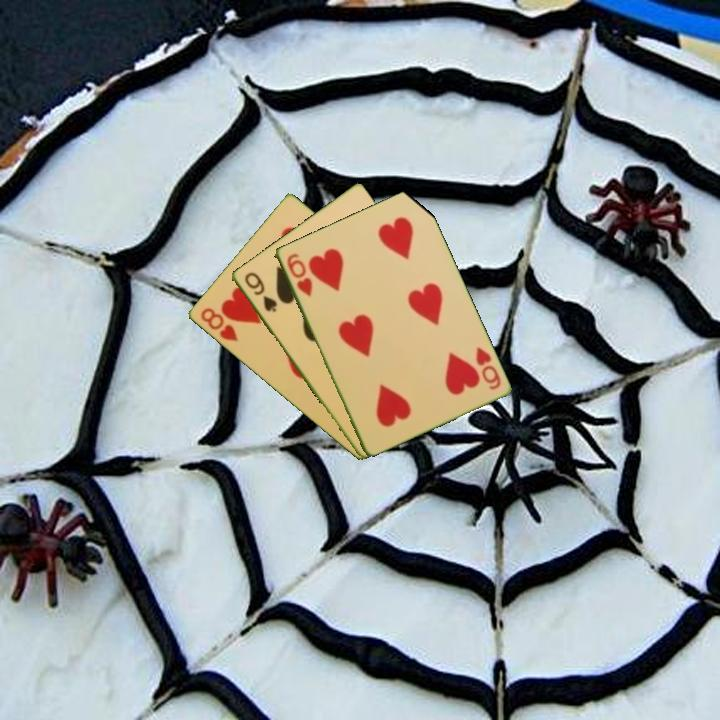6h: (283, 250, 315, 299), (472, 343, 503, 393)
8h: (197, 304, 240, 345)
9s: (240, 268, 280, 315)
